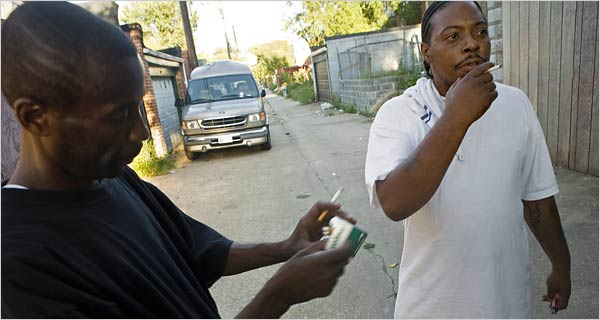cigarette: (316, 185, 344, 224), (480, 61, 504, 75)
